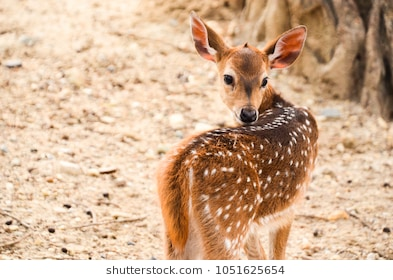Deer: (155, 13, 320, 263)
